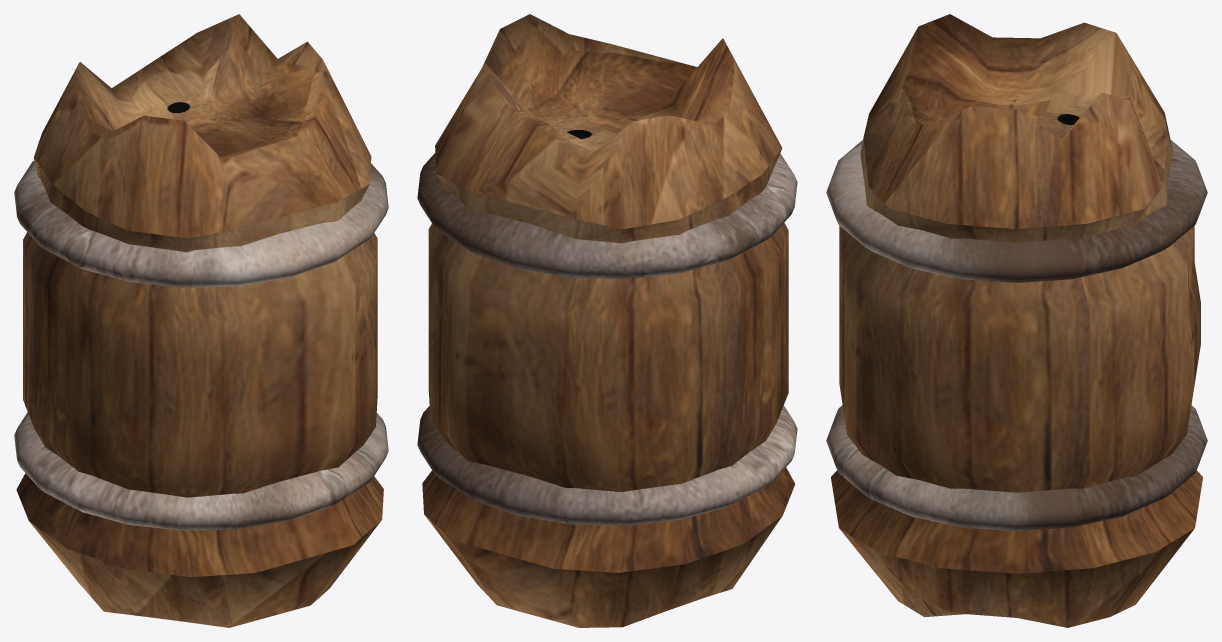
File: Barrel.fbx
3 renders of one model, left to right at view 1: azimuth 30°, elevation 25°; view 2: azimuth 150°, elevation 25°; view 3: azimuth 270°, elevation 25°, orthographic. The views are drawn at different scales.
Parts seen in each view (by area): view 1: Full_barrel; view 2: Full_barrel; view 3: Full_barrel.
Boxes of the visible parts, box(x1,y1,x2,y2) form: Full_barrel: box(14, 14, 388, 627); Full_barrel: box(417, 14, 797, 627); Full_barrel: box(826, 14, 1207, 627).
Size of the model in its own units: 2.75 by 4.14 by 2.72.
1 material, 1 textured.
